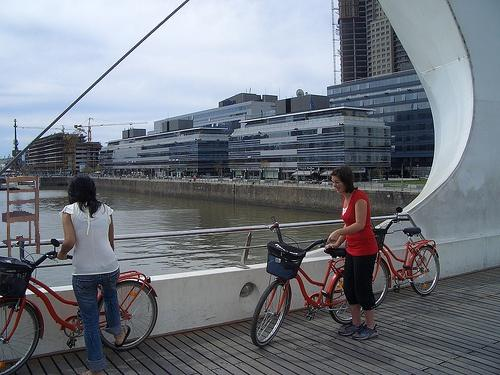tampered: (3, 177, 40, 257)
